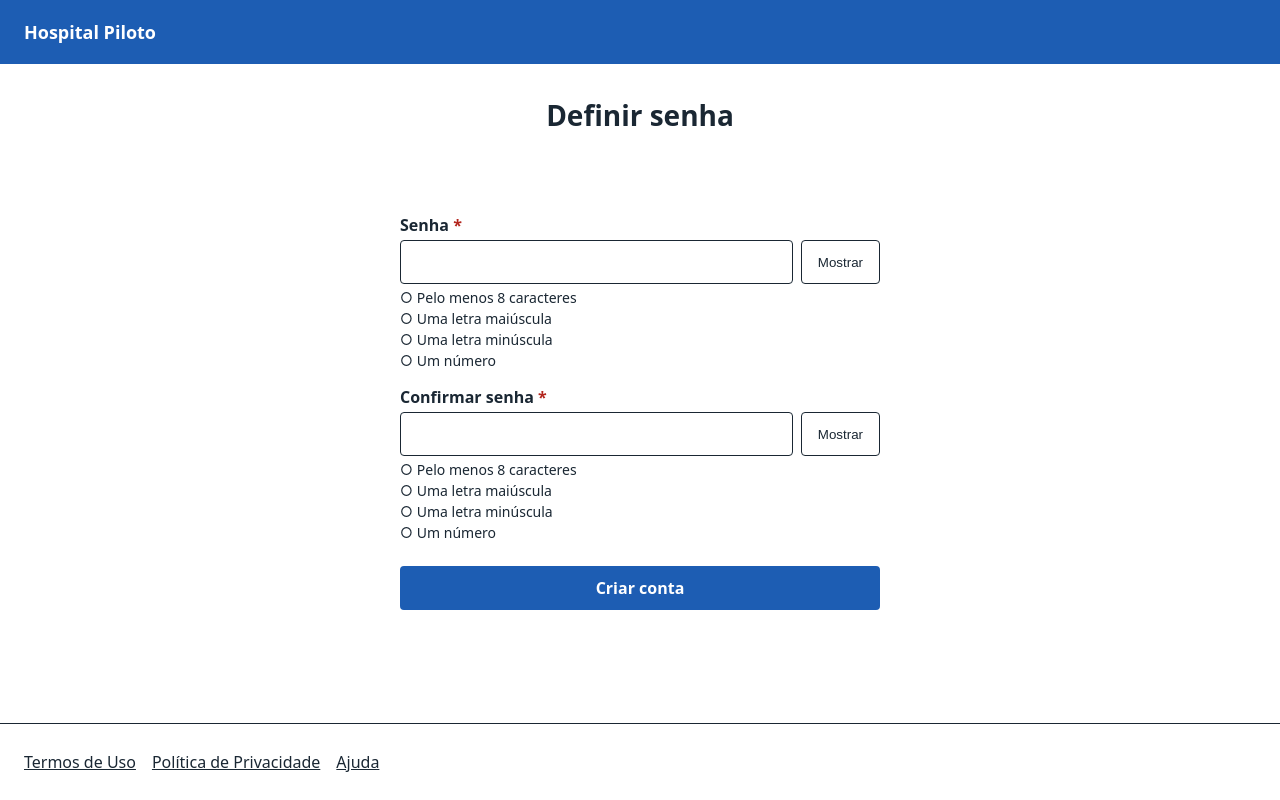
Scenario: CadastroDefinirSenhaPage (TL-06 — Definir Senha) › senhas que não coincidem exibem erro inline no campo de confirmação e não submetem
Type "Abcdef12" into the password field labelled "Senha *". click: (596, 262)
box: [400, 240, 793, 284]
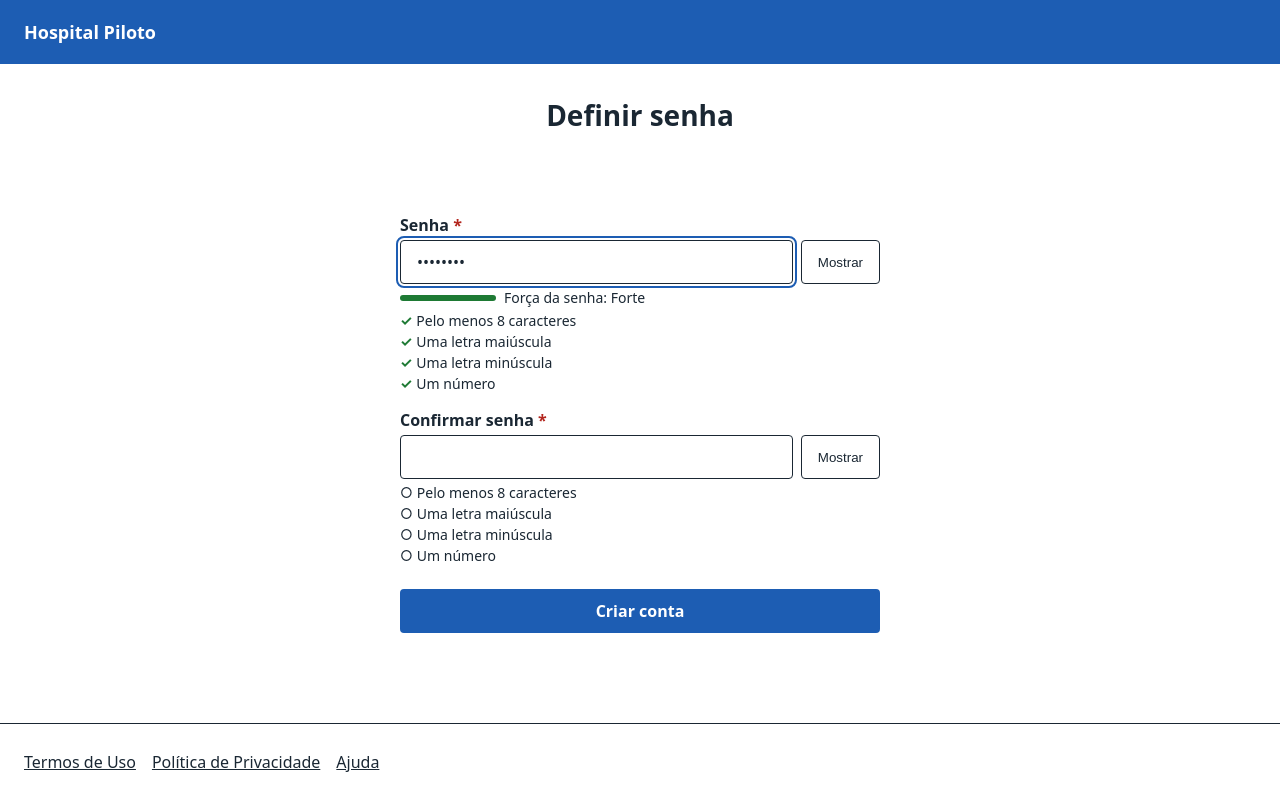
Type "Outra12345" into the password field labelled "Confirmar senha *". click: (596, 457)
box: [400, 435, 793, 479]
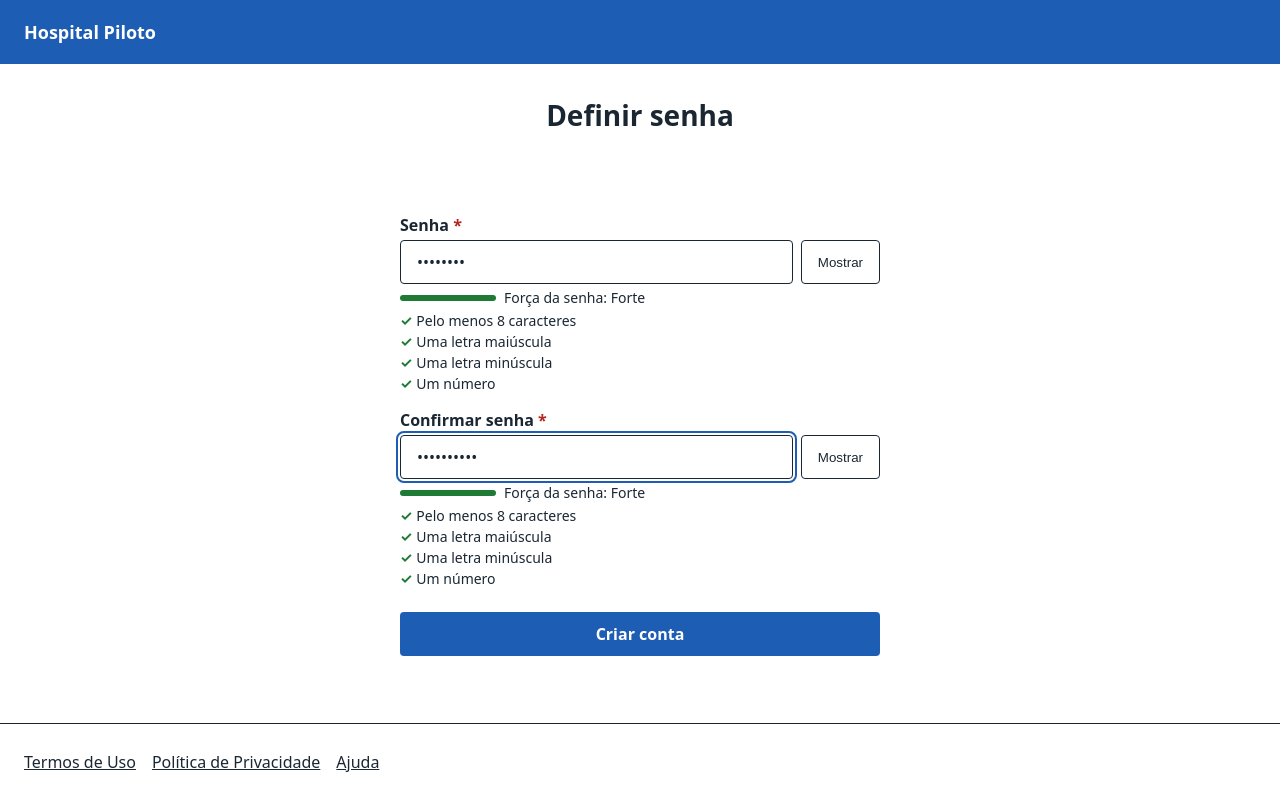
Click the button "Criar conta". click: (640, 634)
box: [400, 612, 880, 656]
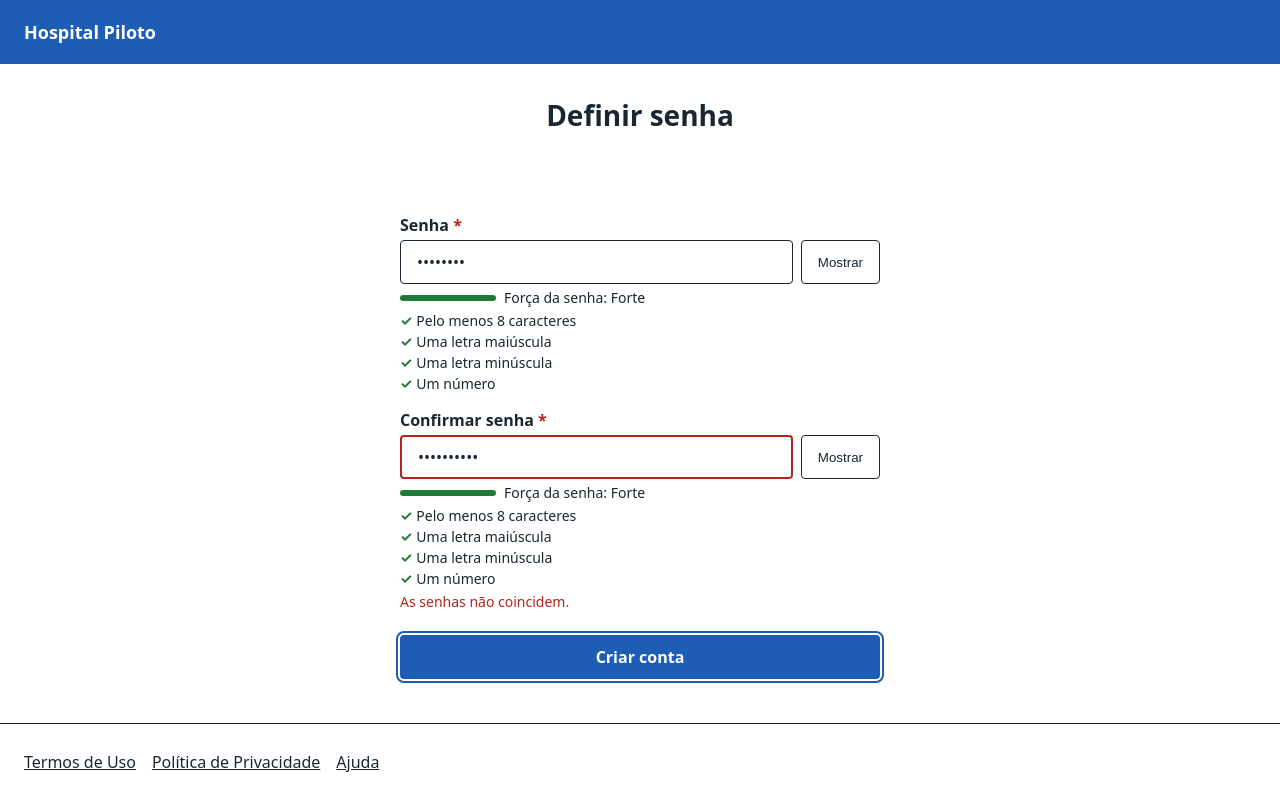
Result: the text "As senhas não coincidem." is shown at [400, 592, 569, 611]
